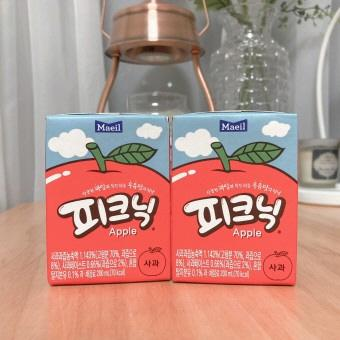picnic_apple: (169, 109, 296, 290), (44, 110, 171, 285)
